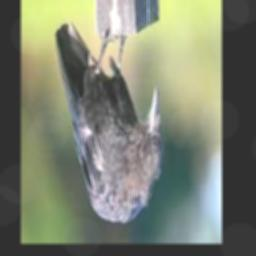Crow: (54, 20, 162, 223)
